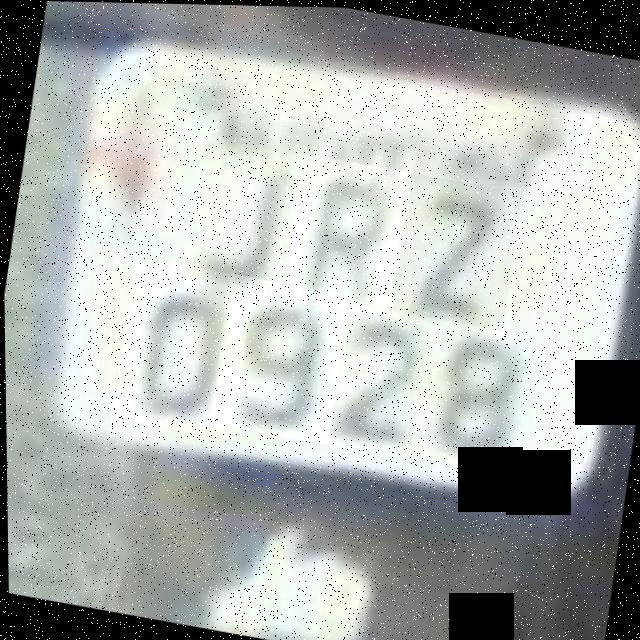0: (109, 255, 256, 439)
2: (301, 301, 443, 460)
8: (401, 318, 550, 475)
9: (206, 273, 350, 444)
J: (167, 135, 304, 298)
R: (280, 152, 409, 317)
Z: (389, 171, 524, 330)
